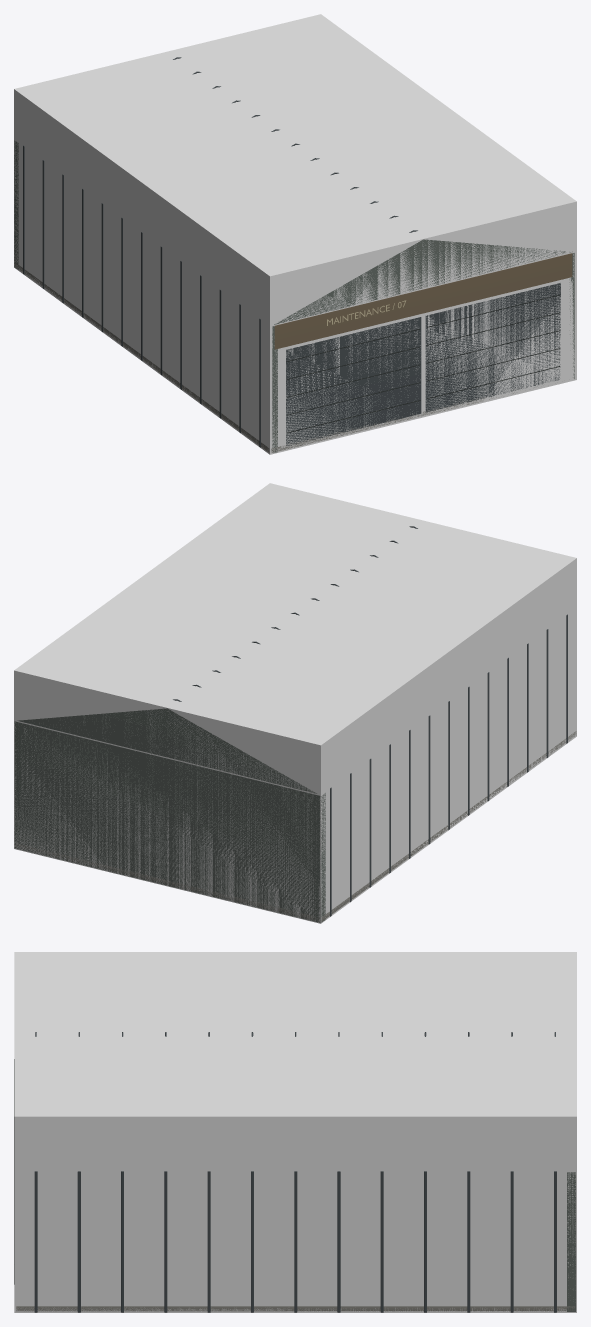
File: m2_maintenance_hangar.glb
The picture shows the model from 3 angles, top to bottom: view 1: azimuth 30°, elevation 25°; view 2: azimuth 150°, elevation 25°; view 3: azimuth 270°, elevation 25°; orthographic projection. The views are drawn at different scales.
Visible parts, largest first — view 1: COL_m2_maintenance_hangar, m2_maintenance_hangar_nc7_alloy, m2_maintenance_hangar_nc7_panel, m2_maintenance_hangar_nc7_coating, m2_maintenance_hangar_nc7_concrete, m2_maintenance_hangar_nc7_polymer; view 2: COL_m2_maintenance_hangar, m2_maintenance_hangar_nc7_panel, m2_maintenance_hangar_nc7_alloy, m2_maintenance_hangar_nc7_concrete; view 3: COL_m2_maintenance_hangar, m2_maintenance_hangar_nc7_alloy, m2_maintenance_hangar_nc7_concrete, m2_maintenance_hangar_nc7_panel.
Boxes of the visible parts, x1,y1,x2,y2 form: COL_m2_maintenance_hangar: (14, 14, 576, 454); m2_maintenance_hangar_nc7_alloy: (23, 57, 560, 447); m2_maintenance_hangar_nc7_panel: (14, 140, 574, 452); m2_maintenance_hangar_nc7_coating: (274, 253, 572, 349); m2_maintenance_hangar_nc7_concrete: (14, 262, 537, 452); m2_maintenance_hangar_nc7_polymer: (286, 294, 560, 433); COL_m2_maintenance_hangar: (14, 483, 576, 923); m2_maintenance_hangar_nc7_panel: (14, 708, 325, 922); m2_maintenance_hangar_nc7_alloy: (173, 526, 567, 916); m2_maintenance_hangar_nc7_concrete: (15, 731, 576, 921); COL_m2_maintenance_hangar: (14, 952, 576, 1312); m2_maintenance_hangar_nc7_alloy: (34, 1032, 556, 1312); m2_maintenance_hangar_nc7_concrete: (16, 1306, 574, 1311); m2_maintenance_hangar_nc7_panel: (567, 1172, 575, 1311).
Size of the model in its own units: 18.05 by 10.08 by 26.02.
